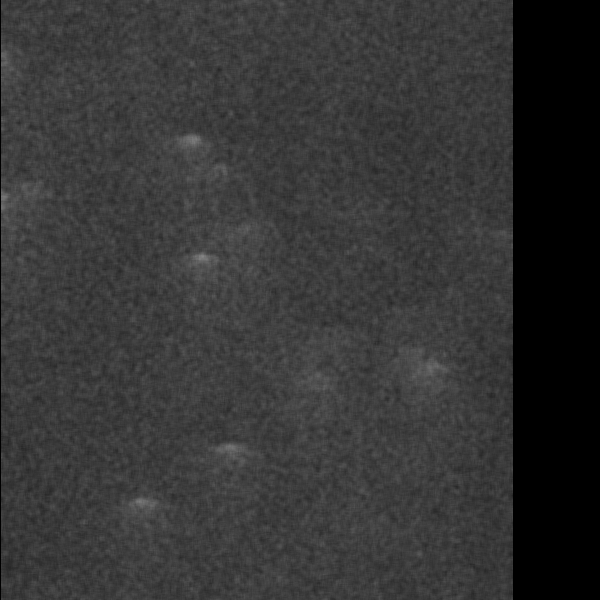spark: (218, 219, 288, 299), (439, 136, 499, 178), (131, 524, 167, 553)
